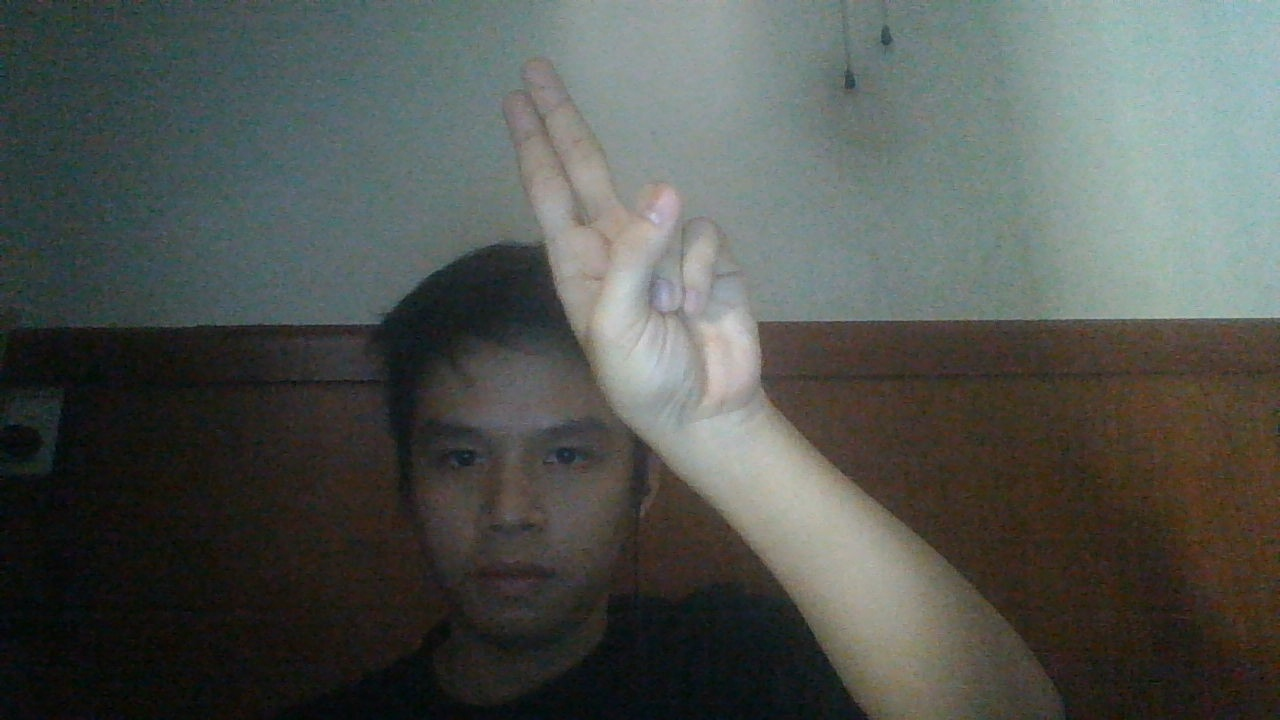write1: (504, 57, 765, 434)
